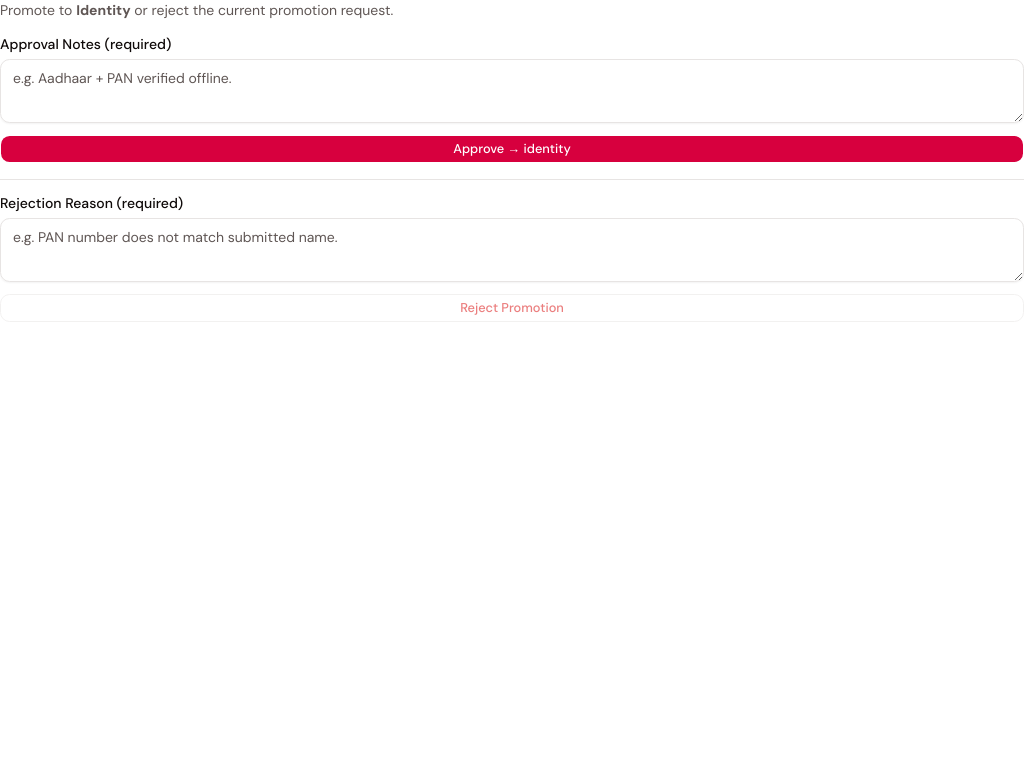
KycApprovalForm — reject gated behind a confirm Dialog › clicking "Reject Promotion" does NOT reject inline — it opens a confirm
The width and height of the screenshot is (1024, 768).
Step 1. Type "PAN does not match name." into the text box labelled "Rejection Reason (required)" → (512, 250), box [0,218,1023,282]
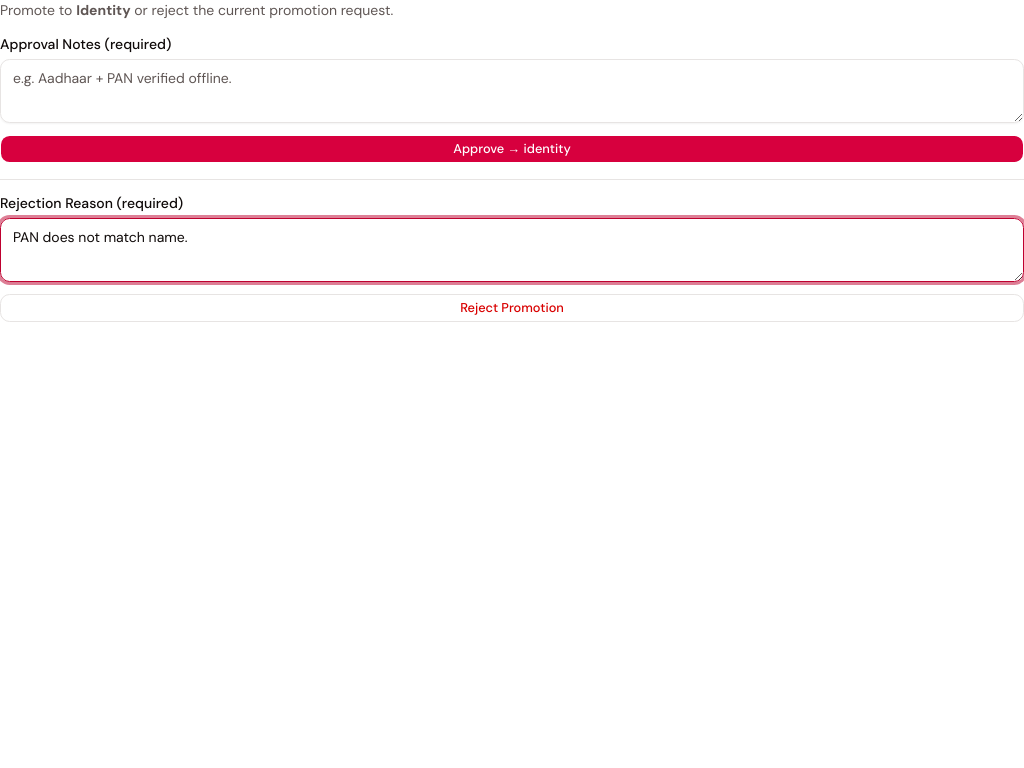
Step 2. Click the button "Reject Promotion" → (512, 308), box [0,294,1023,322]
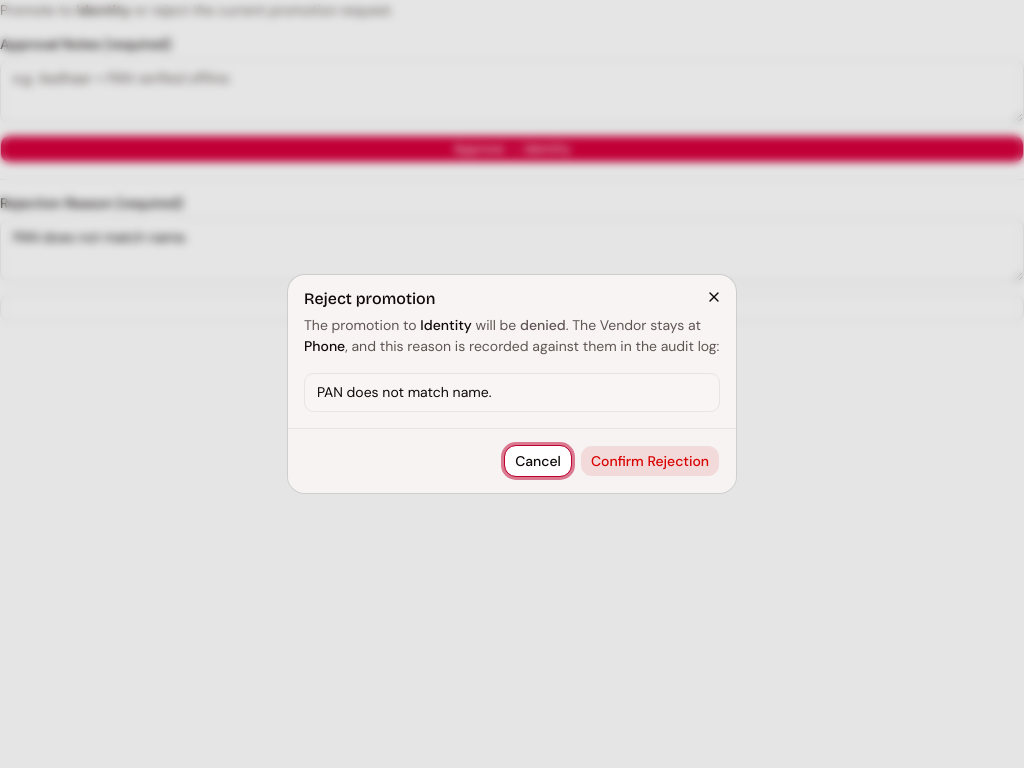
Now the dialog with test id "reject-kyc-confirm" is shown, box [288,275,736,493]
